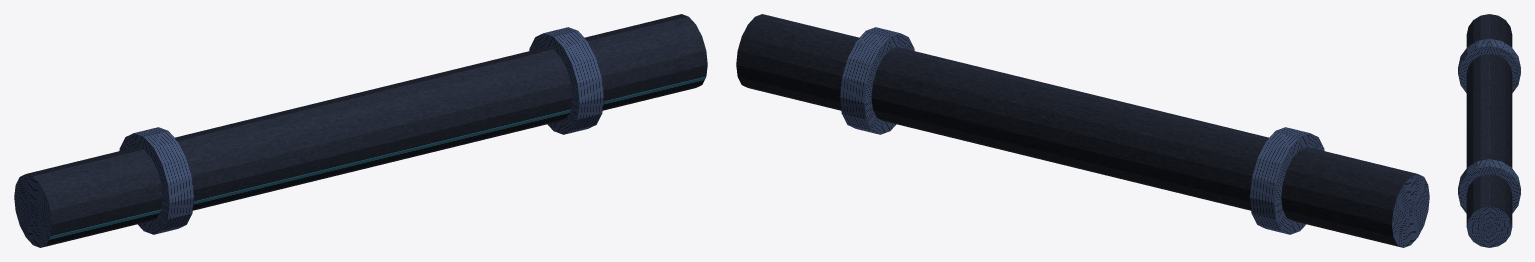
Rendered from pipe.obj.
3 views of the same model, side by side, from view 1: azimuth 30°, elevation 25°; view 2: azimuth 150°, elevation 25°; view 3: azimuth 270°, elevation 25° (orthographic). The views are drawn at different scales.
Visible parts, largest first — view 1: pipe; view 2: pipe; view 3: pipe.
Boxes of the visible parts, x1,y1,x2,y2 form: pipe: (14, 14, 707, 247); pipe: (736, 14, 1429, 247); pipe: (1458, 14, 1520, 247).
Size of the model in its own units: 8 by 1.1 by 1.1.
Materials: 1 (1 with a texture image).
